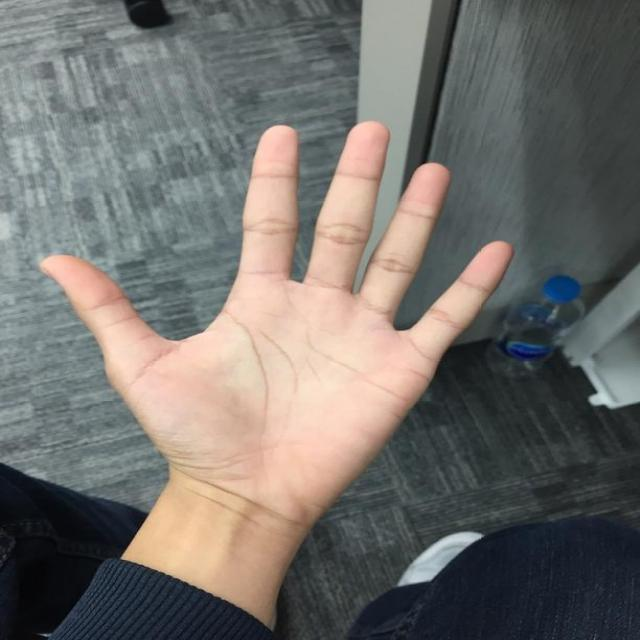hand: (39, 120, 516, 504)
